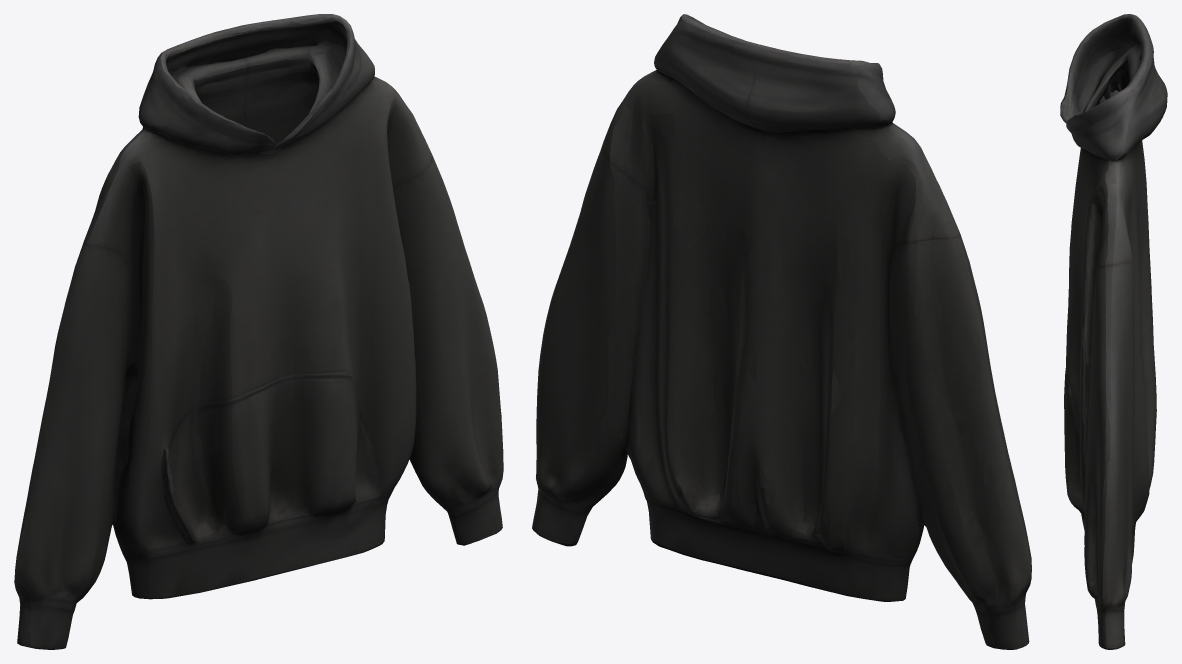
File: coal-product.glb
3 views of the same model, side by side, from view 1: azimuth 30°, elevation 25°; view 2: azimuth 150°, elevation 25°; view 3: azimuth 270°, elevation 25° (orthographic). The views are drawn at different scales.
Visible parts, largest first — view 1: geometry_0; view 2: geometry_0; view 3: geometry_0.
Boxes of the visible parts, x1,y1,x2,y2 form: geometry_0: [14, 14, 503, 649]; geometry_0: [532, 14, 1031, 649]; geometry_0: [1060, 14, 1167, 649].
Size of the model in its own units: 0.7557 by 0.82 by 0.1594.
Materials: 1 (1 with a texture image).
